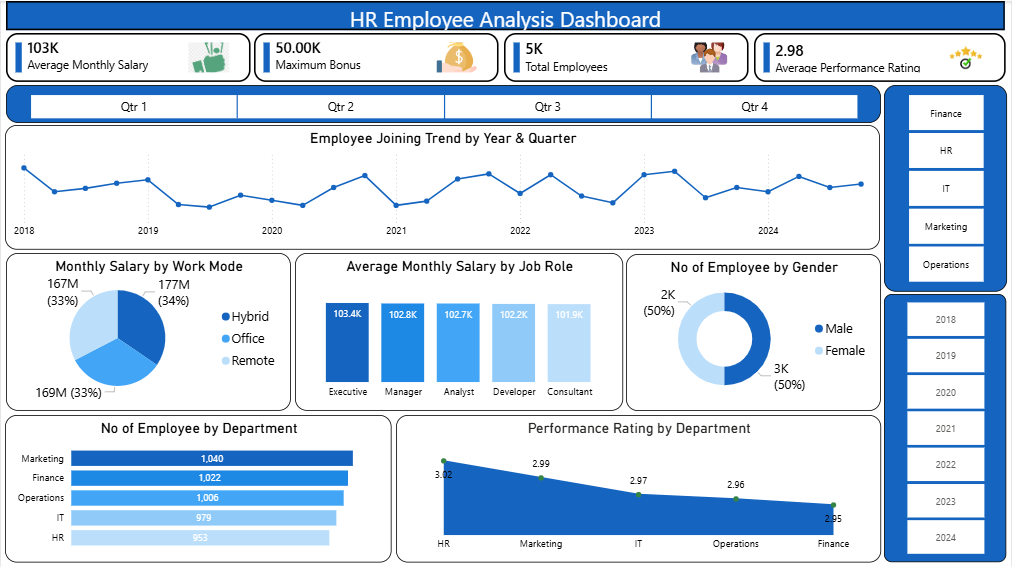

Layout of this report page (visuals, bound fields, positions):
{"tool":"powerbi","page":{"name":"HR Employee Analysis","canvas":[1280,720],"ordinal":0},"visuals":[{"type":"actionButton","box":[6,0,1266.3,37],"z":0},{"type":"cardVisual","fields":{"Data":["Count(Sheet1.Employee_ID)"]},"box":[637.6,40,310,62],"z":1000},{"type":"cardVisual","fields":{"Data":["Avg(Sheet1.Monthly_Salary)"]},"box":[6,40,310,62],"z":2000},{"type":"cardVisual","fields":{"Data":["Max(Sheet1.Bonus)"]},"box":[320.7,40,310,62],"z":3000},{"type":"cardVisual","fields":{"Data":["Avg(Sheet1.Performance_Rating)"]},"box":[954.5,40,319.4,62],"z":4000},{"type":"lineChart","title":"Employee Joining Trend by Year & Quarter","fields":{"Category":["Sheet1.Joining_Date.Variation.Date Hierarchy.Year","Sheet1.Joining_Date.Variation.Date Hierarchy.Quarter"],"Y":["CountNonNull(Sheet1.Employee_ID)"]},"box":[5.1,157.2,1109.2,158.5],"z":5000},{"type":"donutChart","fields":{"Y":["CountNonNull(Sheet1.Employee_ID)"],"Category":["Sheet1.Gender"]},"box":[792.3,320.7,323.2,199],"z":6000},{"type":"pieChart","fields":{"Y":["Sum(Sheet1.Monthly_Salary)"],"Category":["Sheet1.Work_Mode"]},"box":[6.9,320,360.6,199.6],"z":7000},{"type":"columnChart","fields":{"Category":["Sheet1.Job_Role"],"Y":["Avg(Sheet1.Monthly_Salary)"]},"box":[373,320,415.7,199.6],"z":8000},{"type":"barChart","fields":{"Category":["Sheet1.Department"],"Y":["CountNonNull(Sheet1.Employee_ID)"]},"box":[5.5,524.4,490,187.2],"z":9000},{"type":"areaChart","fields":{"Y":["Avg(Sheet1.Performance_Rating)"],"Category":["Sheet1.Department"]},"box":[501,524.4,615,187.2],"z":10000},{"type":"slicer","fields":{"Values":["Sheet1.Department"]},"box":[1119,106,155.5,261.5],"z":11000},{"type":"slicer","fields":{"Values":["Sheet1.Joining_Date.Variation.Date Hierarchy.Year"]},"box":[1119,371.6,155,340],"z":12001},{"type":"slicer","fields":{"Values":["Sheet1.Joining_Date.Variation.Date Hierarchy.Quarter"]},"box":[6.3,106.5,1109.2,48.2],"z":12002}]}

Visuals, with their boxes in screenshot pixels (x1, y1, x2, y2), scaled from the page's 1280x720 canvas onto the 1012x567 screenshot:
actionButton: BBox(5, 0, 1006, 29)
cardVisual - Count(Sheet1.Employee_ID): BBox(504, 32, 749, 80)
cardVisual - Avg(Sheet1.Monthly_Salary): BBox(5, 32, 250, 80)
cardVisual - Max(Sheet1.Bonus): BBox(254, 32, 499, 80)
cardVisual - Avg(Sheet1.Performance_Rating): BBox(755, 32, 1007, 80)
"Employee Joining Trend by Year & Quarter" lineChart: BBox(4, 124, 881, 249)
donutChart - CountNonNull(Sheet1.Employee_ID) x Sheet1.Gender: BBox(626, 253, 882, 409)
pieChart - Sum(Sheet1.Monthly_Salary) x Sheet1.Work_Mode: BBox(5, 252, 291, 409)
columnChart - Sheet1.Job_Role x Avg(Sheet1.Monthly_Salary): BBox(295, 252, 624, 409)
barChart - Sheet1.Department x CountNonNull(Sheet1.Employee_ID): BBox(4, 413, 392, 560)
areaChart - Avg(Sheet1.Performance_Rating) x Sheet1.Department: BBox(396, 413, 882, 560)
slicer - Sheet1.Department: BBox(885, 83, 1008, 289)
slicer - Sheet1.Joining_Date.Variation.Date Hierarchy.Year: BBox(885, 293, 1007, 560)
slicer - Sheet1.Joining_Date.Variation.Date Hierarchy.Quarter: BBox(5, 84, 882, 122)
